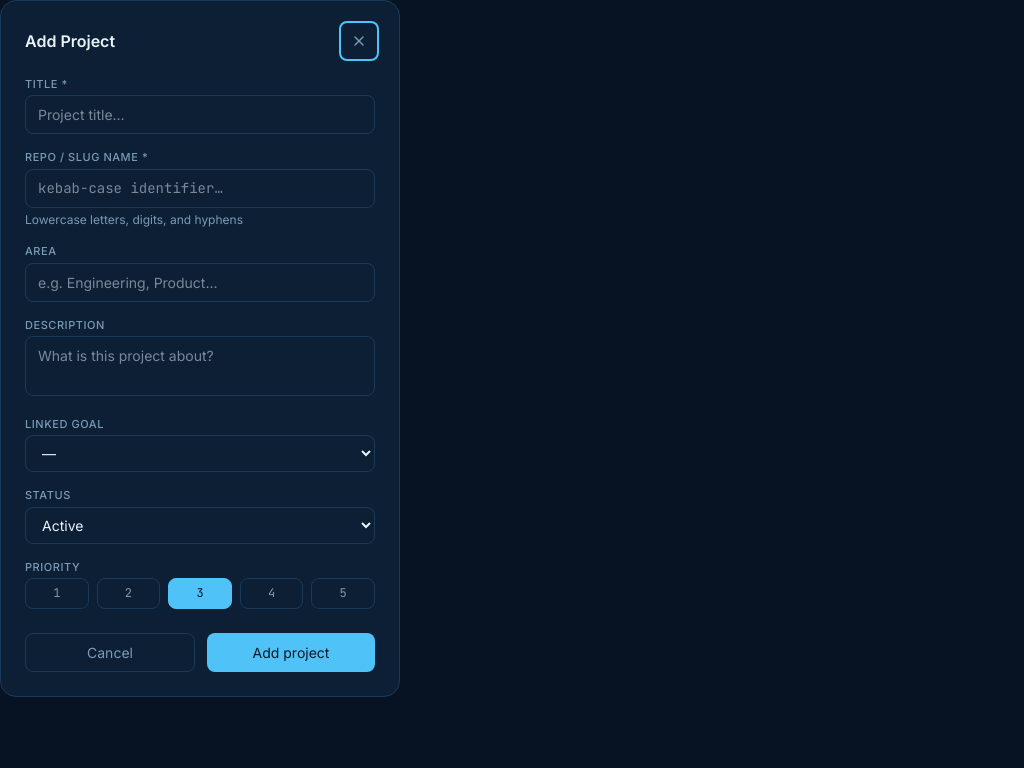
Test: ProjectModal — Create mode › rejects an invalid slug with a clear error
Type "My project" into the field labelled "Title *" at (200, 115), box [25,95,375,134]
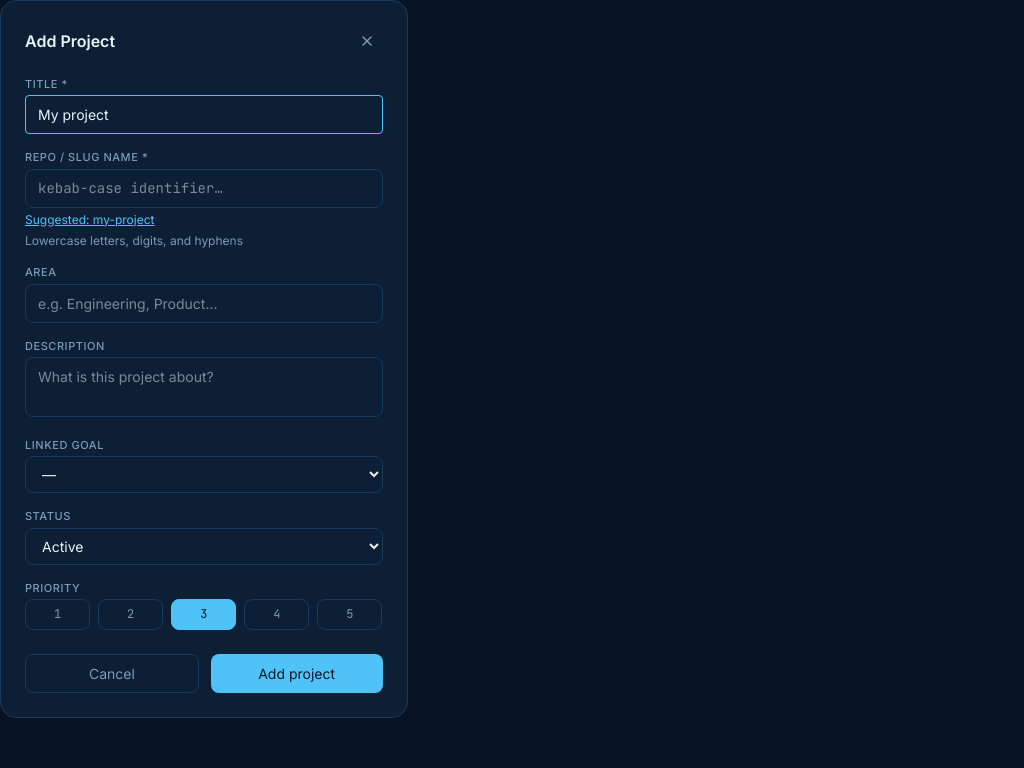
Type "Bad Slug" into the field labelled "Repo / slug name *" at (204, 188), box [25,169,382,208]
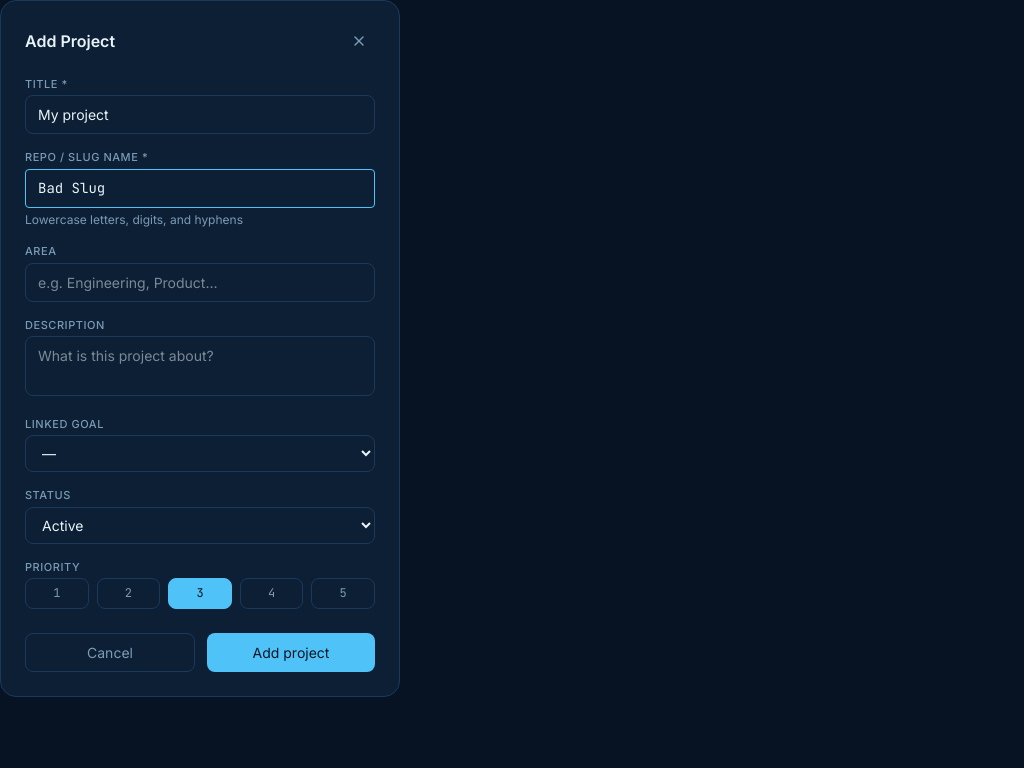
Click the button "Add project" at (291, 652), box [207,633,375,672]
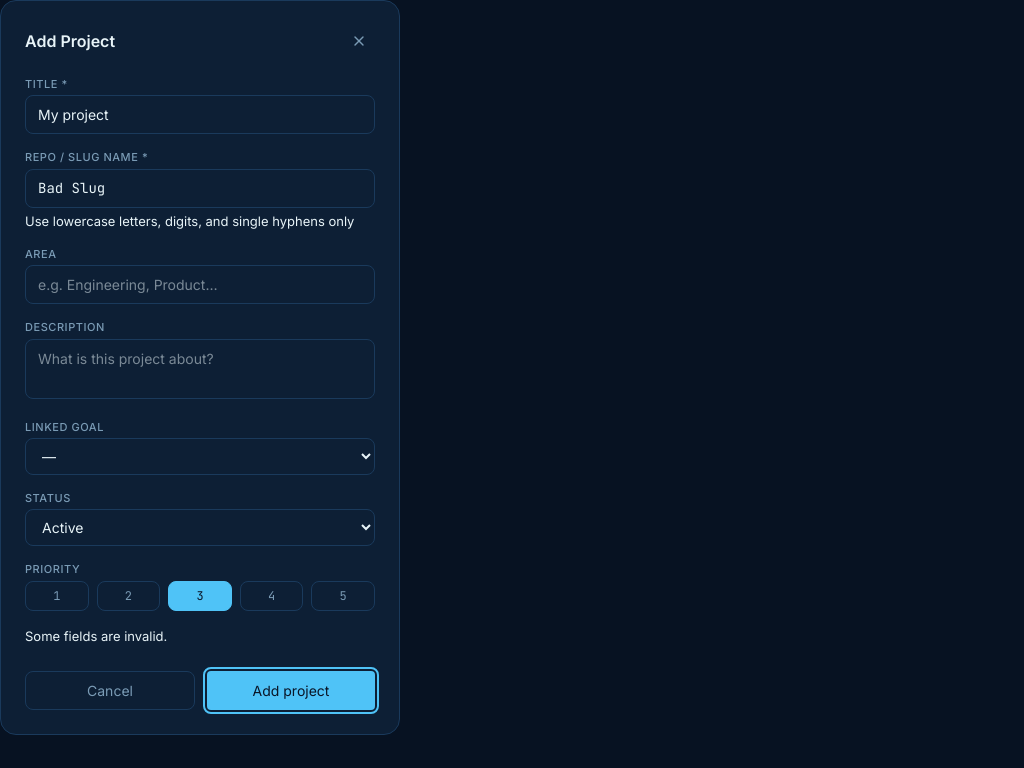
Result: the text "Use lowercase letters, digits, and single hyphens only" is shown at [25,212,375,231]
